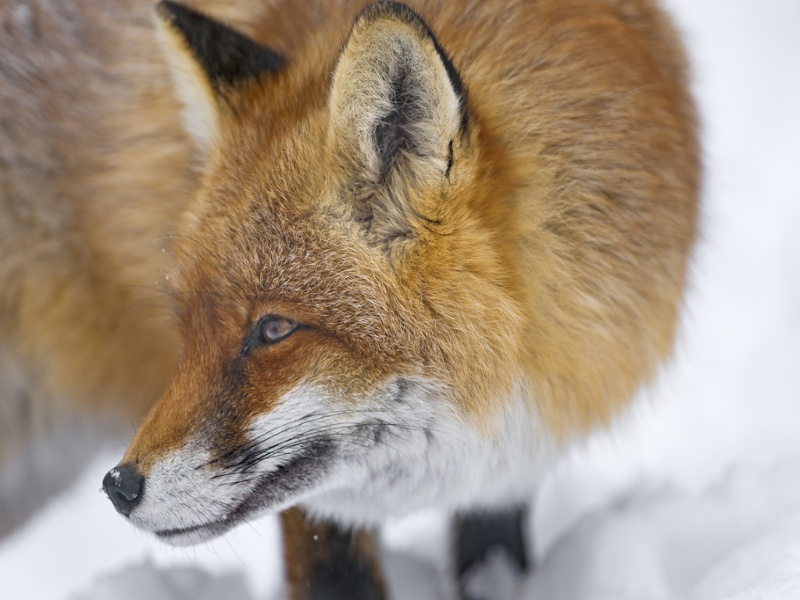fox: (12, 1, 718, 586)
